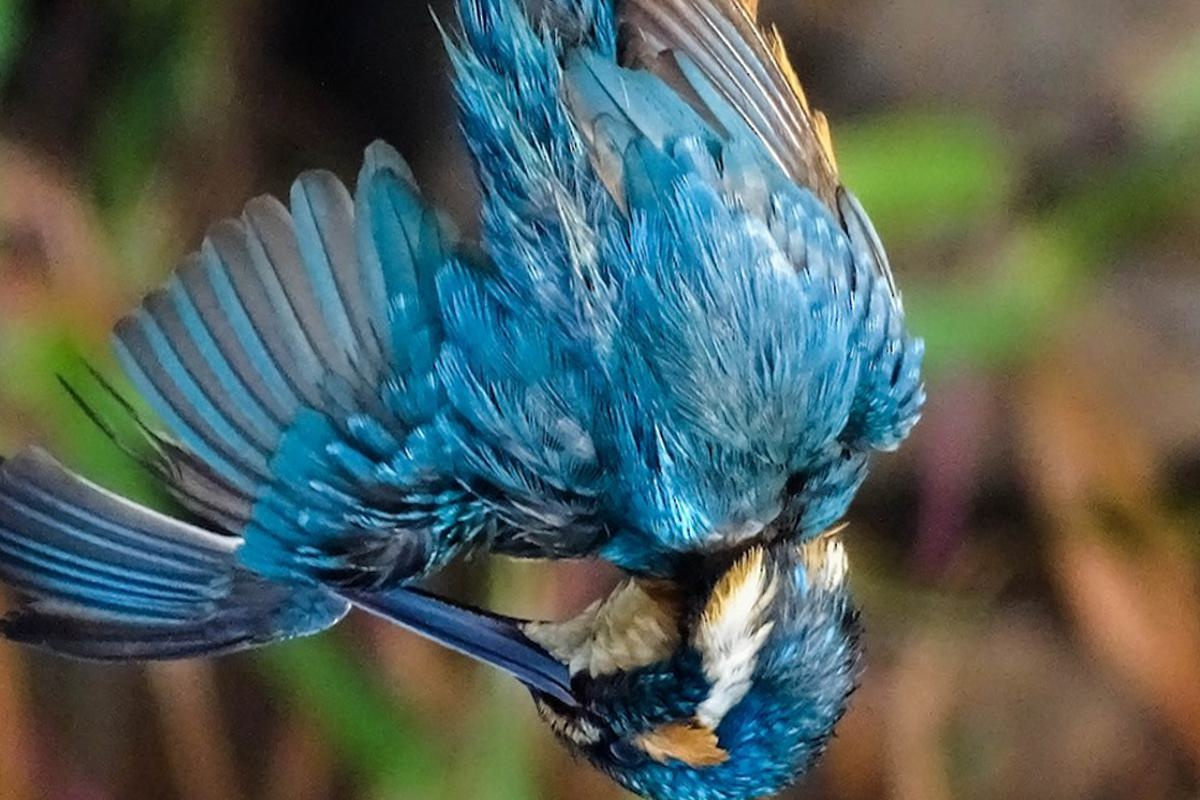kingfisher: (1, 5, 922, 800)
